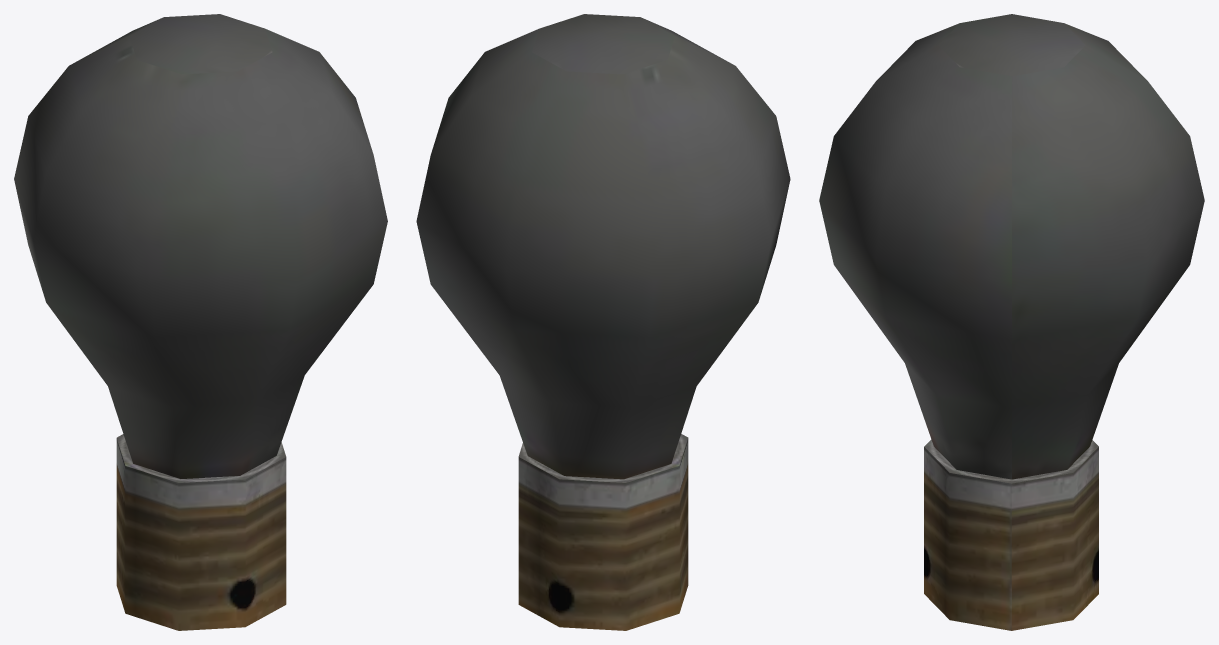
Rendered from dlc_bulb_spotlight.glb.
The picture shows the model from 3 angles, left to right: view 1: azimuth 30°, elevation 25°; view 2: azimuth 150°, elevation 25°; view 3: azimuth 270°, elevation 25°; orthographic projection.
Parts seen in each view (by area): view 1: dlc_bulb_lod0; view 2: dlc_bulb_lod0; view 3: dlc_bulb_lod0.
Part boxes in pixels (x1=…): dlc_bulb_lod0: x1=14, y1=14, x2=387, y2=630; dlc_bulb_lod0: x1=416, y1=14, x2=790, y2=630; dlc_bulb_lod0: x1=819, y1=14, x2=1204, y2=630.
Size of the model in its own units: 0.122 by 0.2027 by 0.122.
1 material, 1 textured.
